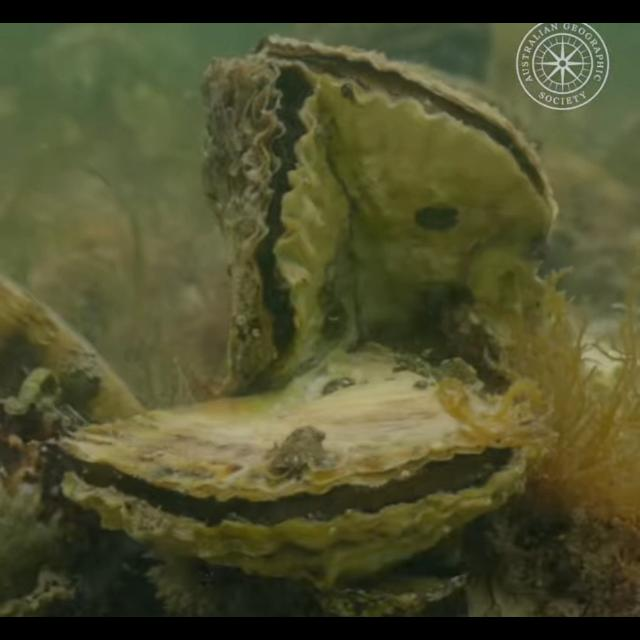Oyster-Closed: (0, 273, 148, 439)
Oyster-Open: (54, 342, 530, 592), (257, 35, 558, 357), (199, 55, 353, 401)
